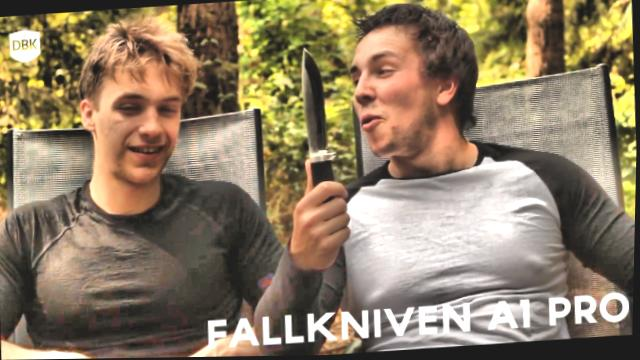knife: (285, 37, 356, 232)
